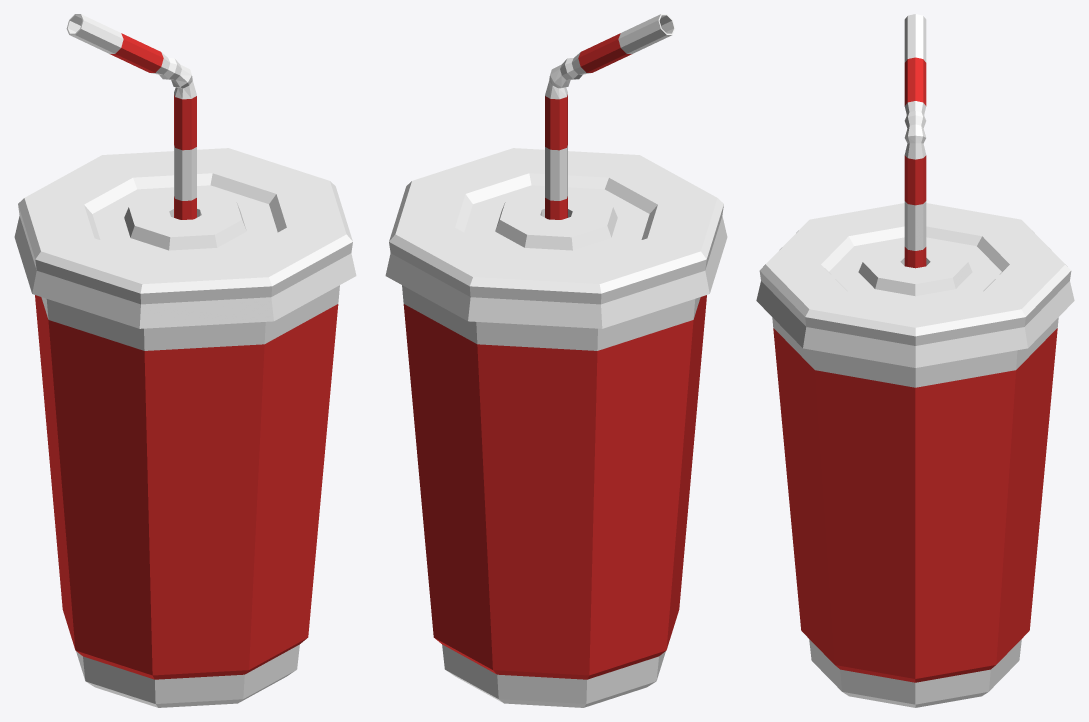
The model's file is Soda.obj.
3 renders of one model, left to right at view 1: azimuth 30°, elevation 25°; view 2: azimuth 150°, elevation 25°; view 3: azimuth 270°, elevation 25°, orthographic. The views are drawn at different scales.
Parts seen in each view (by area): view 1: Soda_Red, Soda_White; view 2: Soda_Red, Soda_White; view 3: Soda_Red, Soda_White.
Boxes of the visible parts, <box> form: Soda_Red: <box>35,33,338,679</box>; Soda_White: <box>14,14,356,707</box>; Soda_Red: <box>403,33,706,679</box>; Soda_White: <box>385,14,727,707</box>; Soda_Red: <box>773,57,1057,682</box>; Soda_White: <box>756,14,1074,707</box>.
Size of the model in its own units: 0.9118 by 1.92 by 0.9118.
